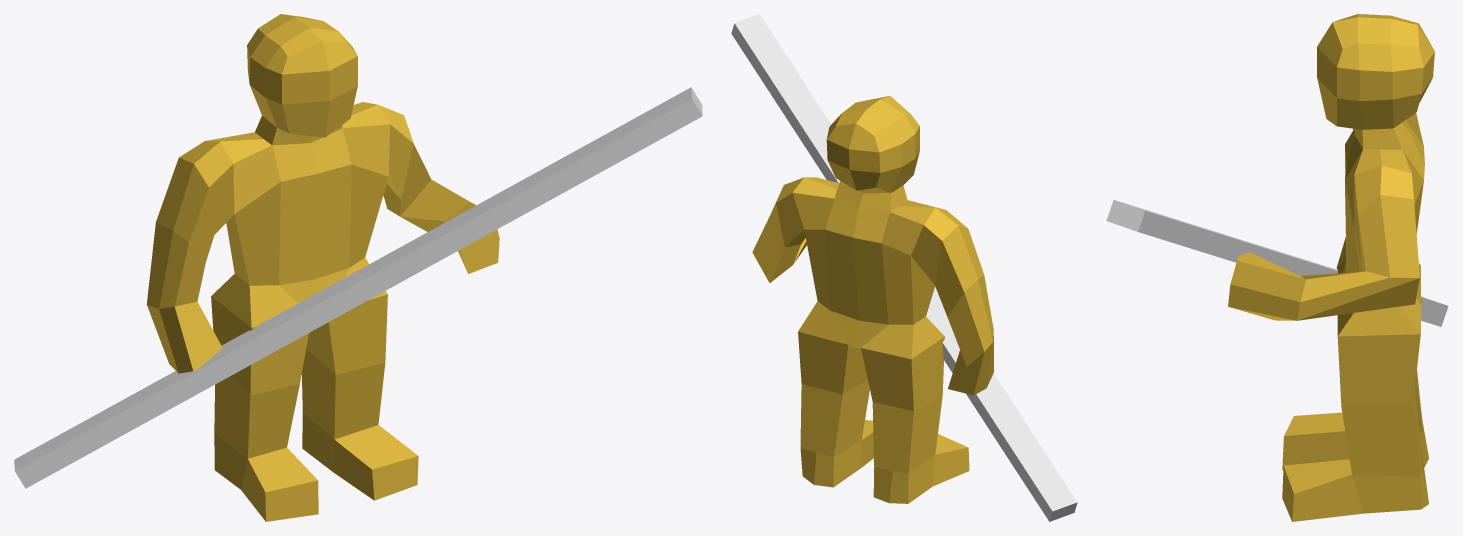
File: brigand.glb
The picture shows the model from 3 angles, left to right: view 1: azimuth 30°, elevation 25°; view 2: azimuth 150°, elevation 25°; view 3: azimuth 270°, elevation 25°; orthographic projection. The views are drawn at different scales.
Visible parts, largest first — view 1: Cube.001, Cube; view 2: Cube.001, Cube; view 3: Cube.001, Cube.
Boxes of the visible parts, x1,y1,x2,y2 form: Cube.001: (146,14,499,521); Cube: (14,87,702,488); Cube.001: (752,96,993,503); Cube: (731,14,1077,521); Cube.001: (1228,14,1434,521); Cube: (1106,200,1448,326).
Size of the model in its own units: 2.73 by 2.14 by 1.42.
